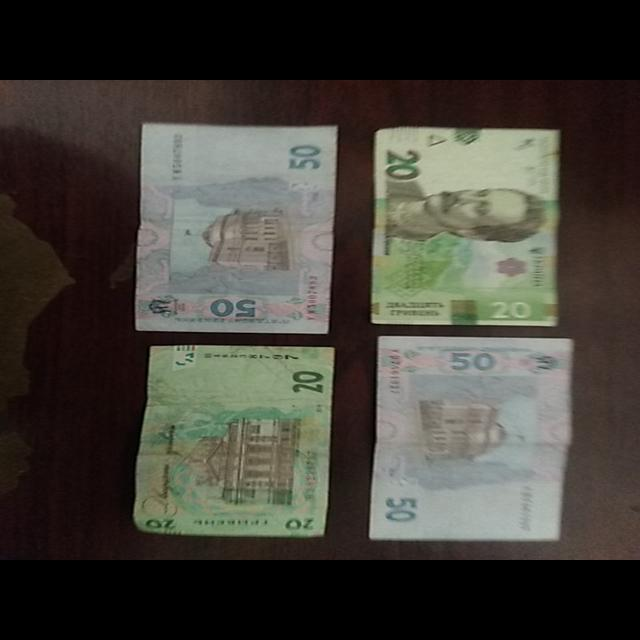20uah: (130, 342, 332, 540), (370, 128, 562, 324)
50uah: (123, 116, 331, 334), (365, 327, 565, 541)
